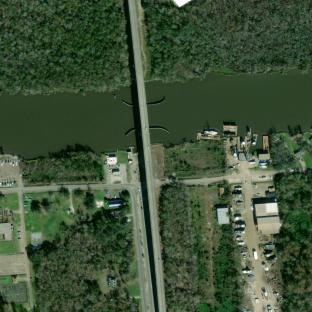Floresta: (142, 0, 312, 82), (0, 0, 130, 95), (27, 208, 138, 312), (274, 169, 312, 312), (159, 180, 200, 312), (199, 225, 240, 312), (20, 144, 104, 185), (268, 127, 295, 169), (0, 241, 15, 254)
